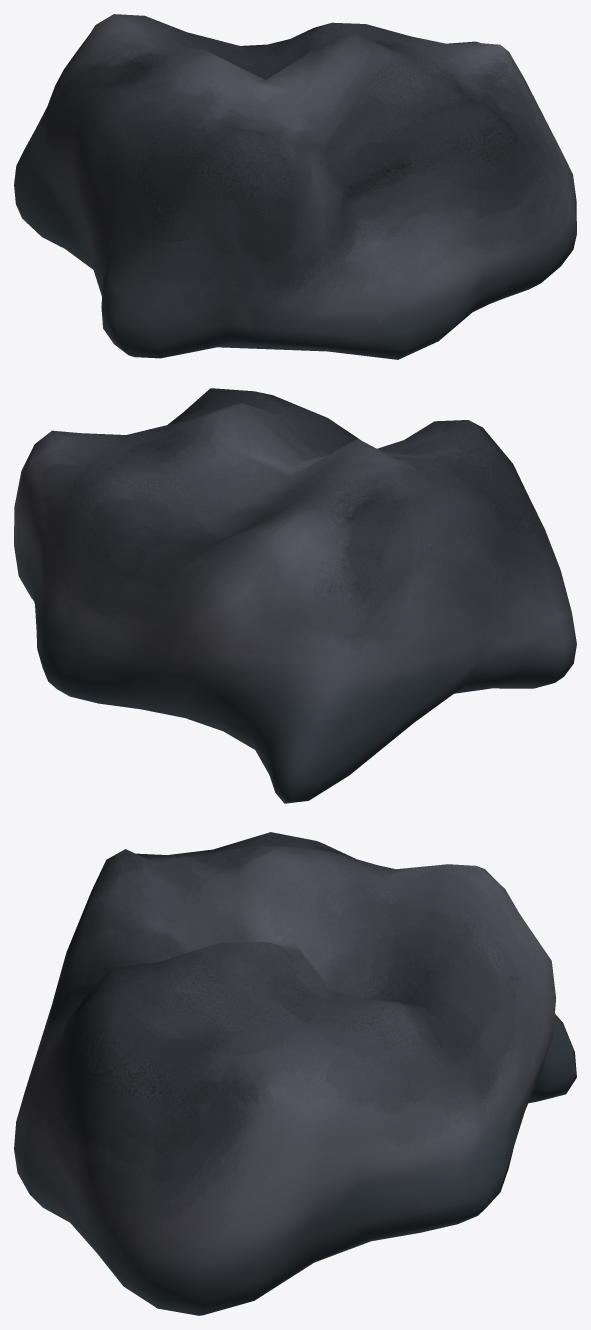
The model's file is GemRockBase.fbx.
The picture shows the model from 3 angles, top to bottom: view 1: azimuth 30°, elevation 25°; view 2: azimuth 150°, elevation 25°; view 3: azimuth 270°, elevation 25°; orthographic projection. The views are drawn at different scales.
Parts seen in each view (by area): view 1: GemRockBase; view 2: GemRockBase; view 3: GemRockBase.
Part boxes in pixels (left/top/right/bottom): GemRockBase: left=14, top=14, right=576, bottom=359; GemRockBase: left=14, top=388, right=576, bottom=803; GemRockBase: left=14, top=832, right=576, bottom=1315.
Bounding box in the file's own units: 85.6 × 43 × 73.79.
1 material, 1 textured.
